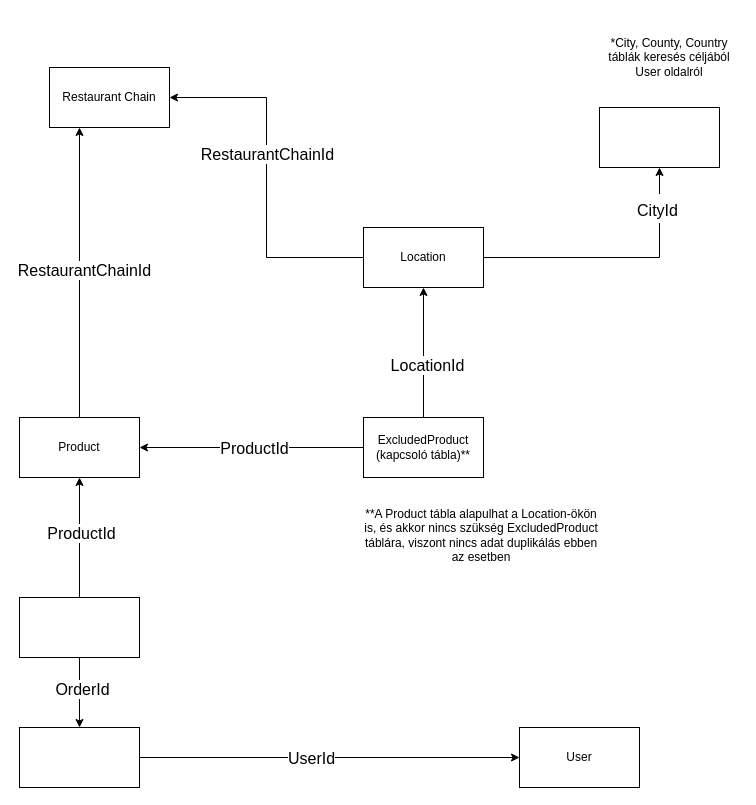
The diagram is 756 pixels wide and 805 high, and some of its shapes have lost their labels. Here are the shapes that lost their labels. From the top down, the centre of each, then its label:
the point at 659,137: City (ha van igény)*
the point at 79,627: OrderItem (kapcsoló tábla)
the point at 79,757: Order
